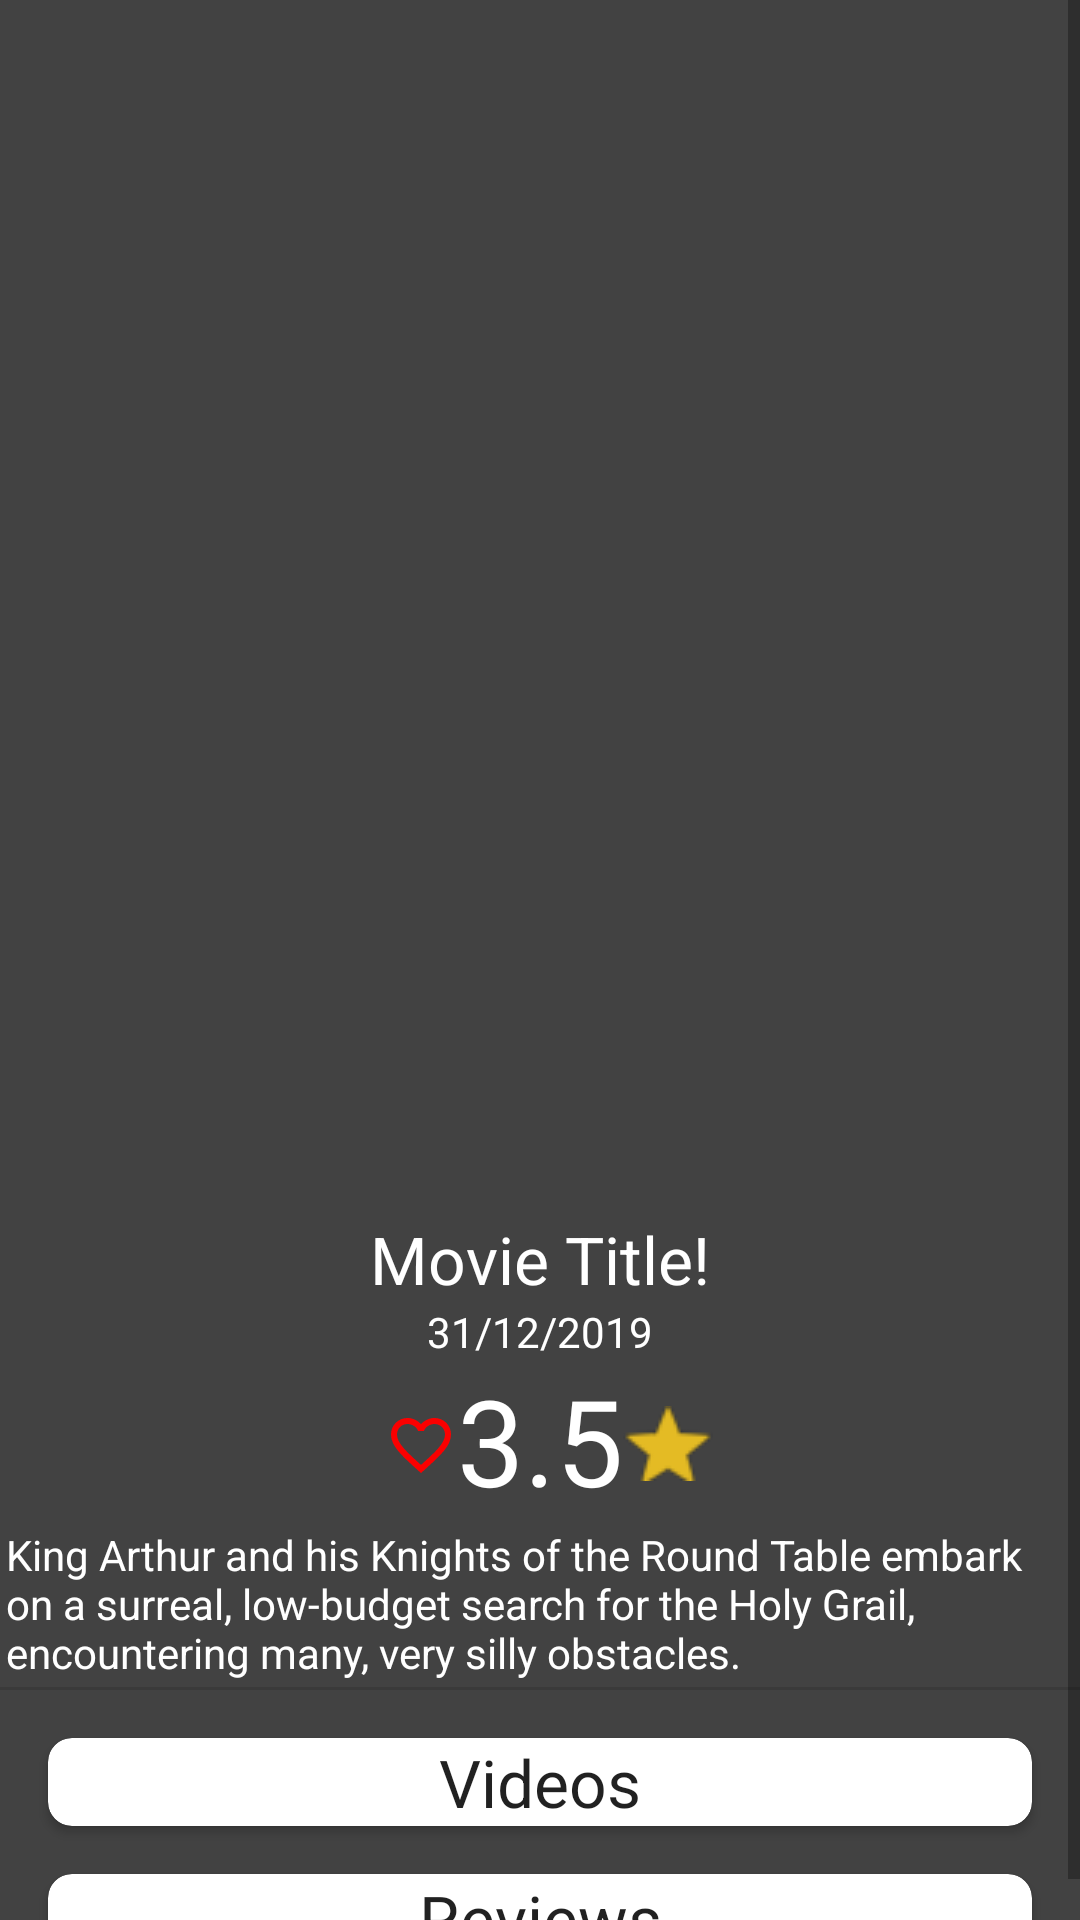

Point at icon controls on the screen. Image size 1080px x 1920px, points as (x=x, y=y).
Star: (x=668, y=1443)
